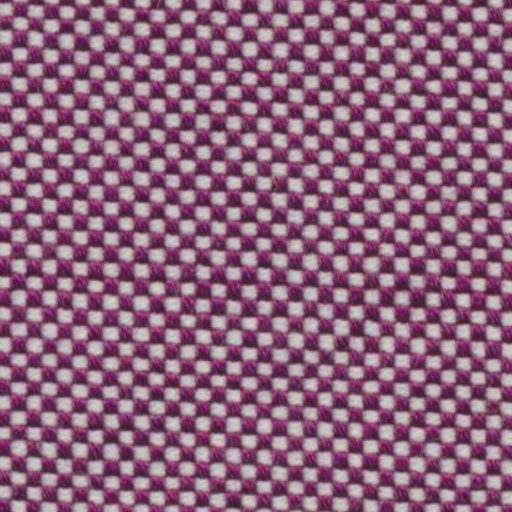TuoSha: (20, 210, 498, 334)
